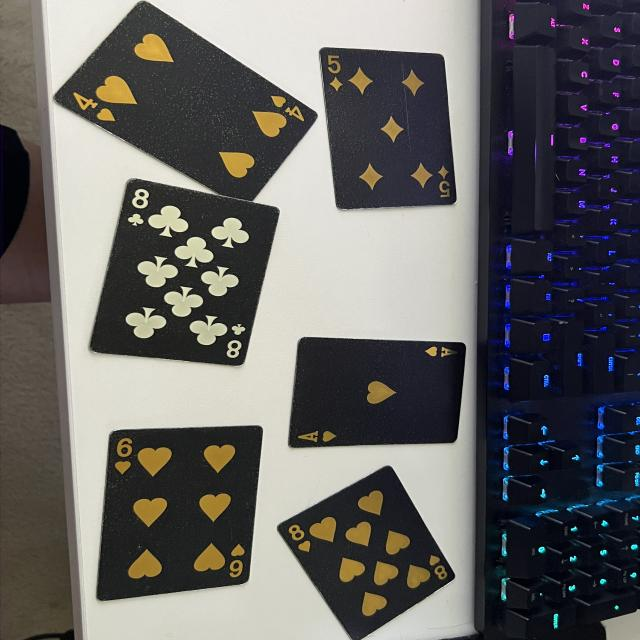4H: (68, 92, 120, 124), (266, 92, 312, 122)
5D: (324, 52, 348, 91), (434, 164, 455, 198)
6H: (113, 434, 135, 476), (228, 542, 246, 580)
8C: (124, 186, 148, 227), (226, 322, 247, 361)
8H: (282, 524, 316, 554), (427, 553, 452, 584)
AH: (296, 428, 341, 443), (423, 343, 462, 359)
